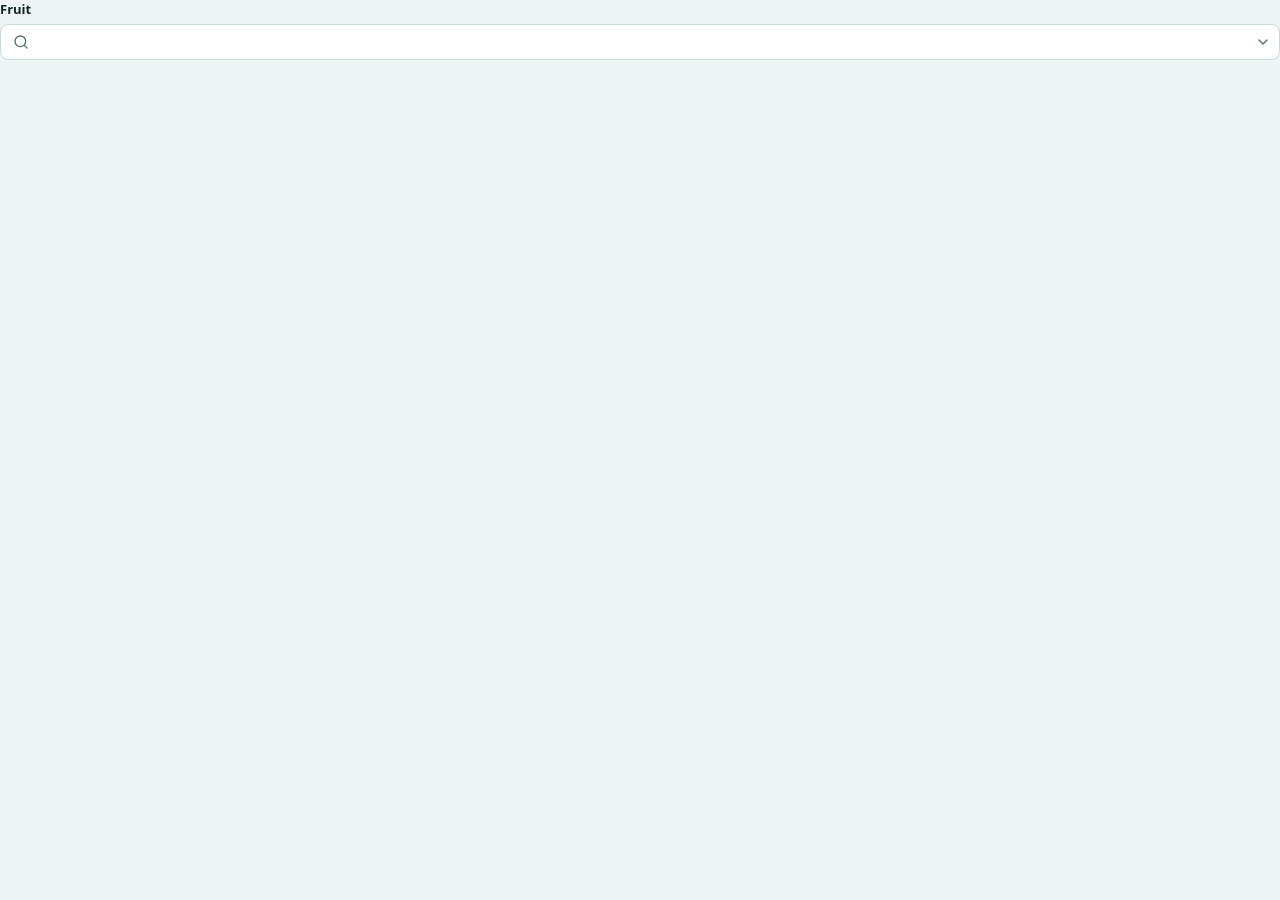
Test: Combobox › filter="none" não filtra; onInputChange avisa o chamador
Type "zz" into the dropdown labelled "Fruit" at (640, 42), box [37, 24, 1243, 58]
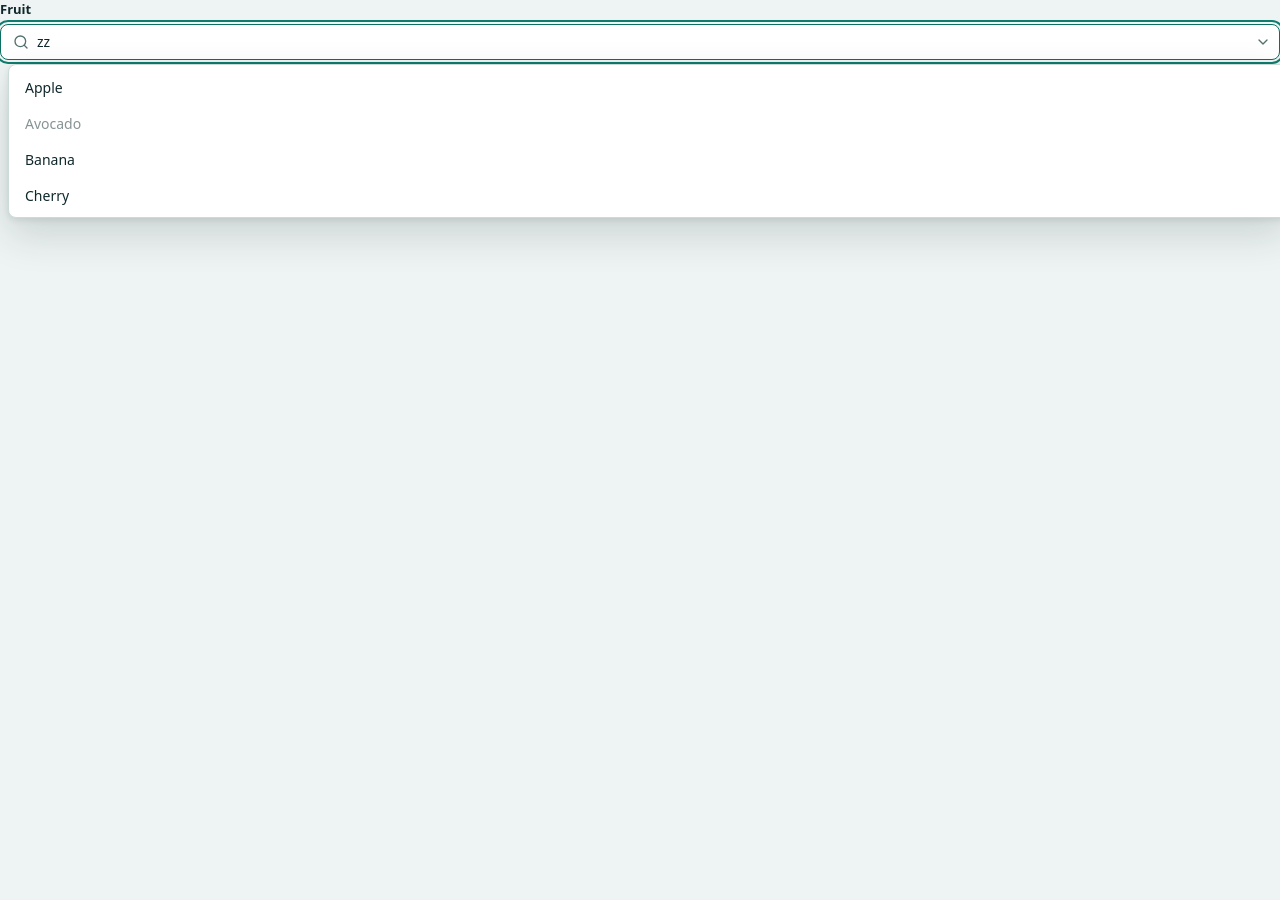
Expected: the number of options is 4, [25, 78, 63, 96]; [25, 114, 81, 132]; [25, 150, 75, 168]; [25, 186, 69, 204]
